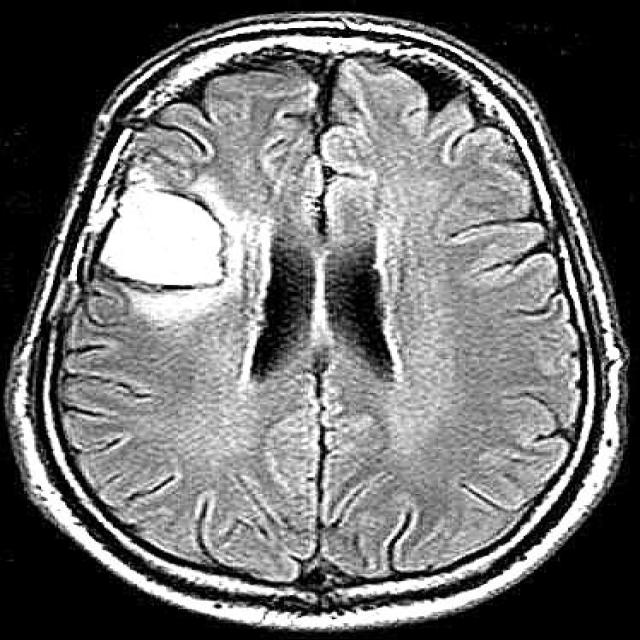Tumor-Cell: (101, 175, 236, 297)
